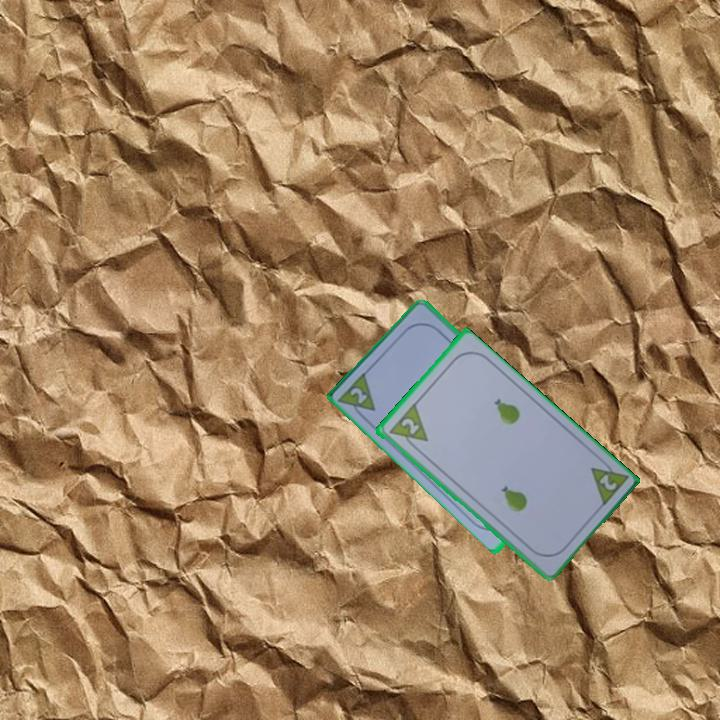2p: (586, 454, 630, 510), (384, 401, 430, 454), (336, 368, 379, 424)
